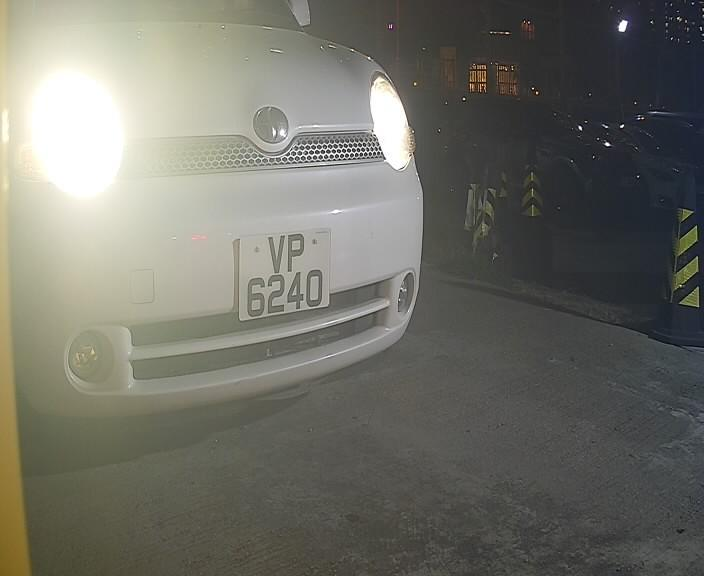privatecar: (29, 1, 415, 440)
